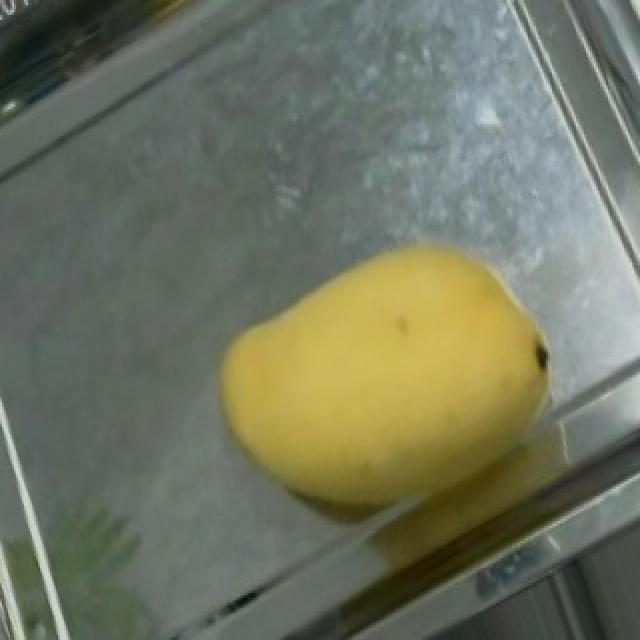fruit: (168, 184, 622, 605)
